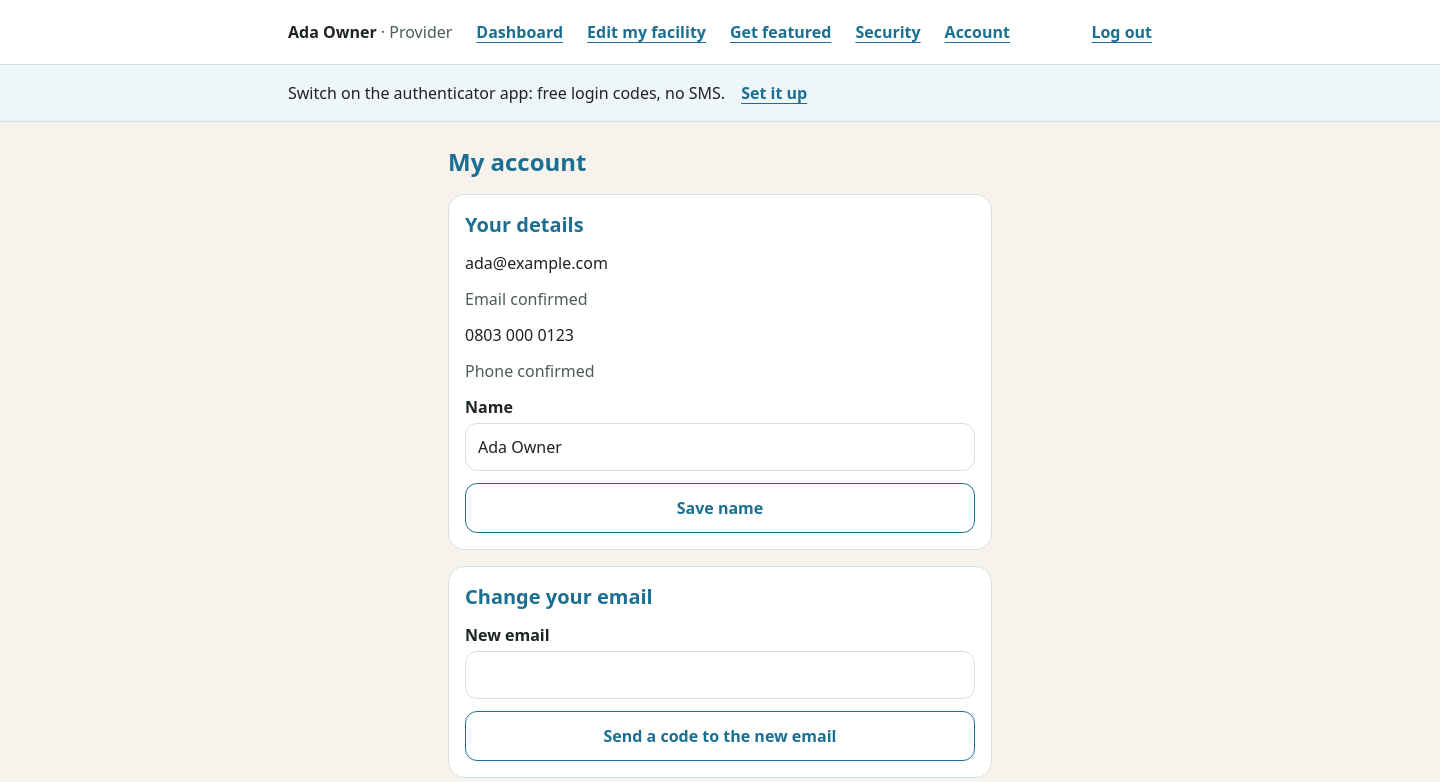
Scenario: a new email › shows the API's own sentence for an email that is used, and for a wrong code
The width and height of the screenshot is (1440, 782).
Expected: the heading "My account" is shown, [448,145,586,178]
Expected: the text "ada@example.com" is shown, [465,252,608,274]
In the field labelled "New email": (720, 675) [465,651,975,699], type "taken@example.com"
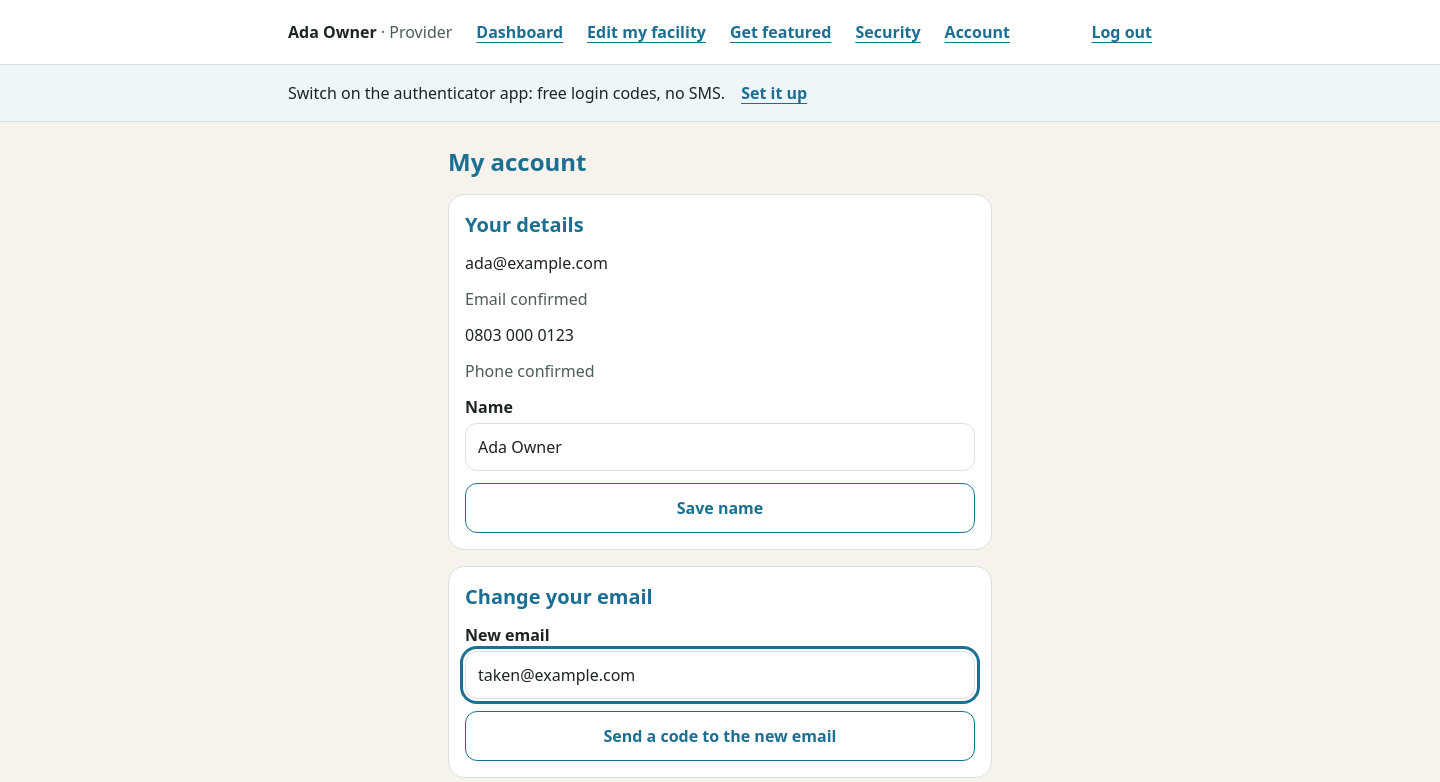
Click the button "Send a code to the new email": (720, 736) [465,711,975,761]
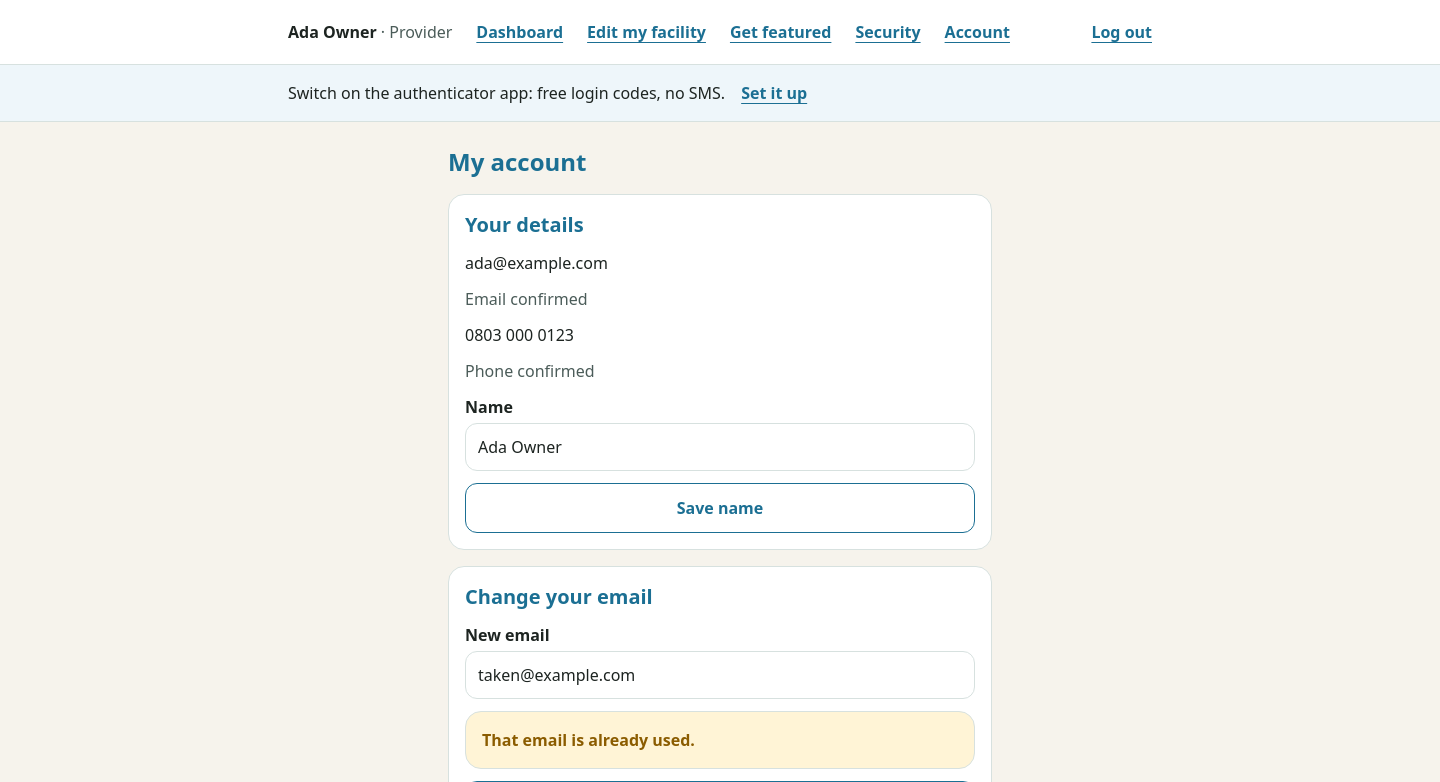
Result: the text "That email is already used." is shown at [465,711,975,769]
